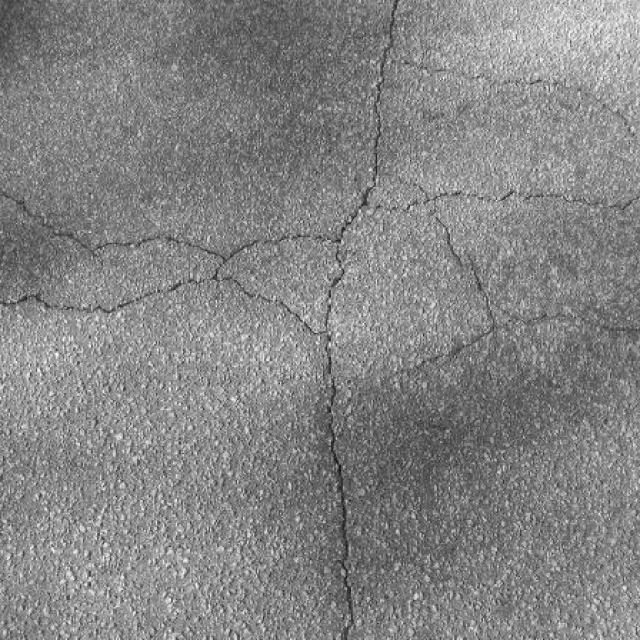Crack: (1, 2, 406, 639), (361, 151, 640, 382), (377, 44, 638, 141)
